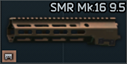AR-15 Geissele SMR MK16 9.5 inch M-LOK handguard: (0, 0, 127, 64)
